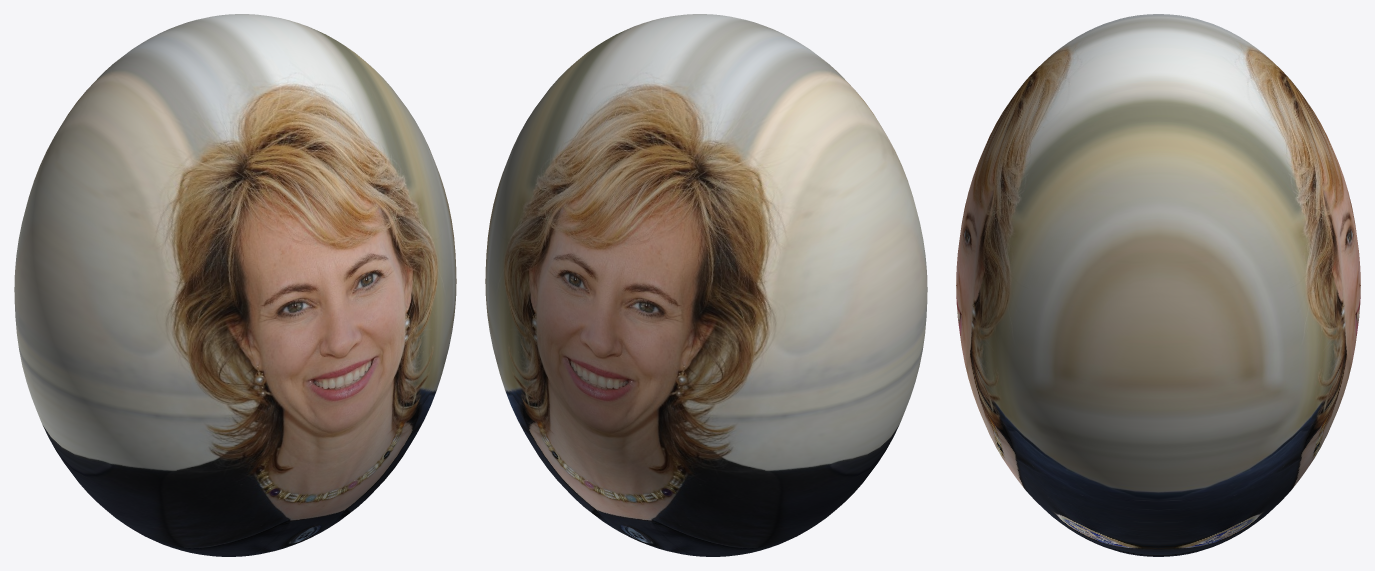
3 renders of one model, left to right at view 1: azimuth 30°, elevation 25°; view 2: azimuth 150°, elevation 25°; view 3: azimuth 270°, elevation 25°, orthographic.
Visible parts, largest first — view 1: head; view 2: head; view 3: head.
Part boxes in pixels (bbox=[...]): head: bbox=[14, 14, 456, 556]; head: bbox=[485, 14, 927, 556]; head: bbox=[956, 14, 1360, 556].
Bounding box in the file's own units: 1.6 × 2 × 1.44.
1 material, 1 textured.
